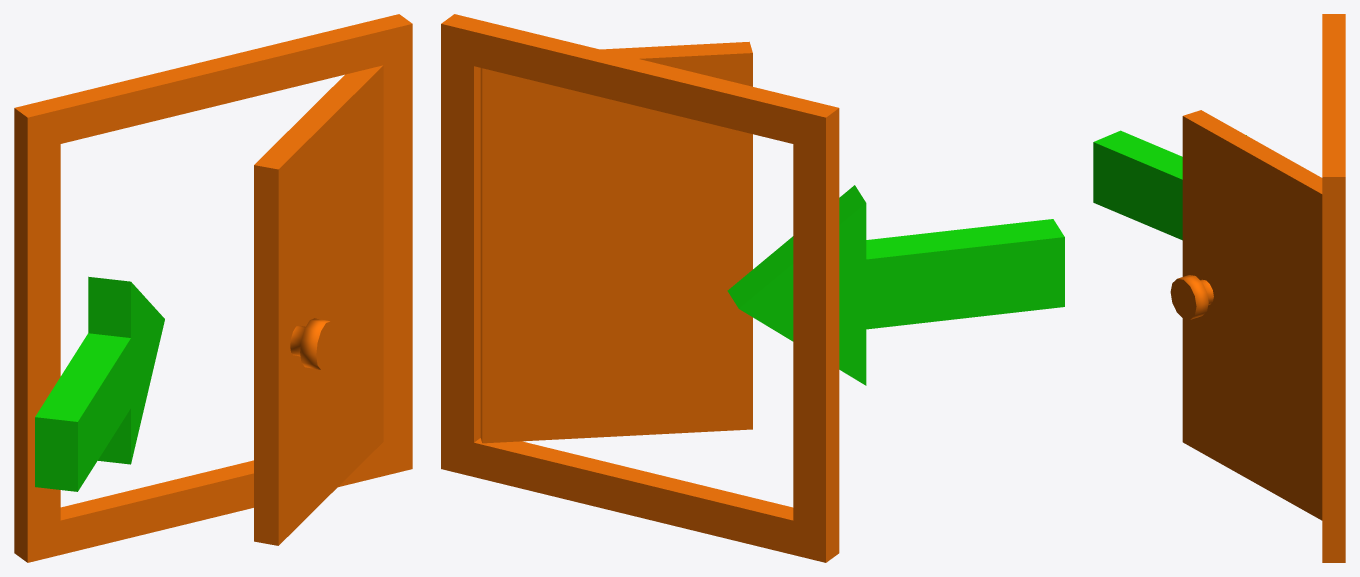
The model's file is ExitDoor_I_01.fbx.
The picture shows the model from 3 angles, left to right: view 1: azimuth 30°, elevation 25°; view 2: azimuth 150°, elevation 25°; view 3: azimuth 270°, elevation 25°; orthographic projection. The views are drawn at different scales.
Parts seen in each view (by area): view 1: ExitDoor_I_01; view 2: ExitDoor_I_01; view 3: ExitDoor_I_01.
Boxes of the visible parts, x1,y1,x2,y2 form: ExitDoor_I_01: (14,14,412,562); ExitDoor_I_01: (441,14,1064,562); ExitDoor_I_01: (1093,14,1345,562).
Size of the model in its own units: 118 by 102 by 60.2.
